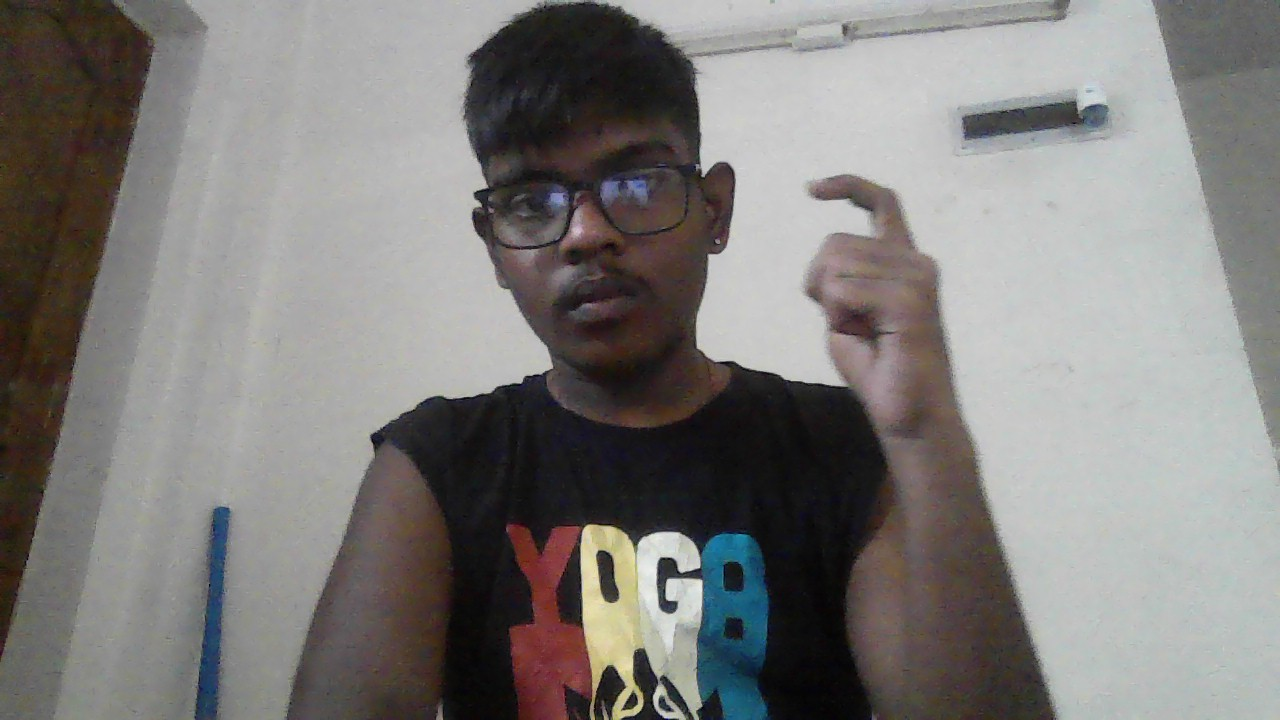X: (803, 172, 952, 431)
